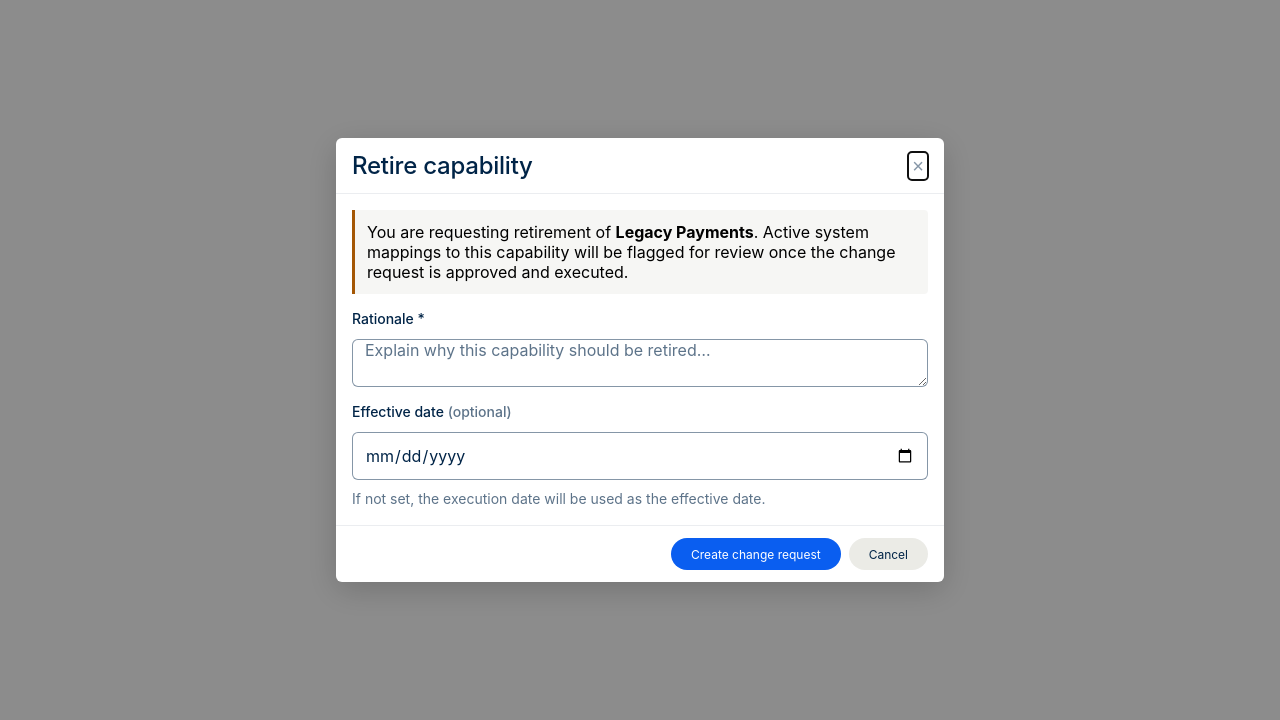
Test case: RetireDialog › should show a rationale validation error when submitted without rationale
Click the button "Create change request".
click(756, 554)  # box [671,538,841,570]
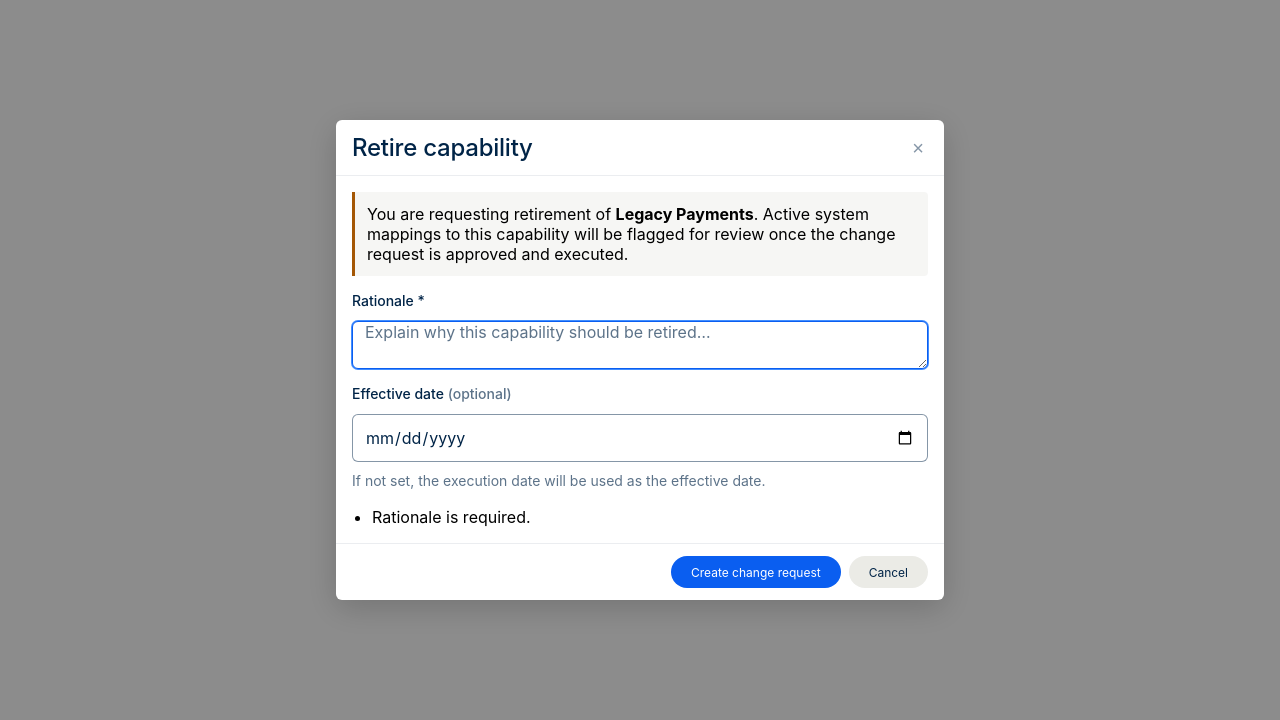
Expected: the message shows "Rationale is required", [372,507,531,527]
